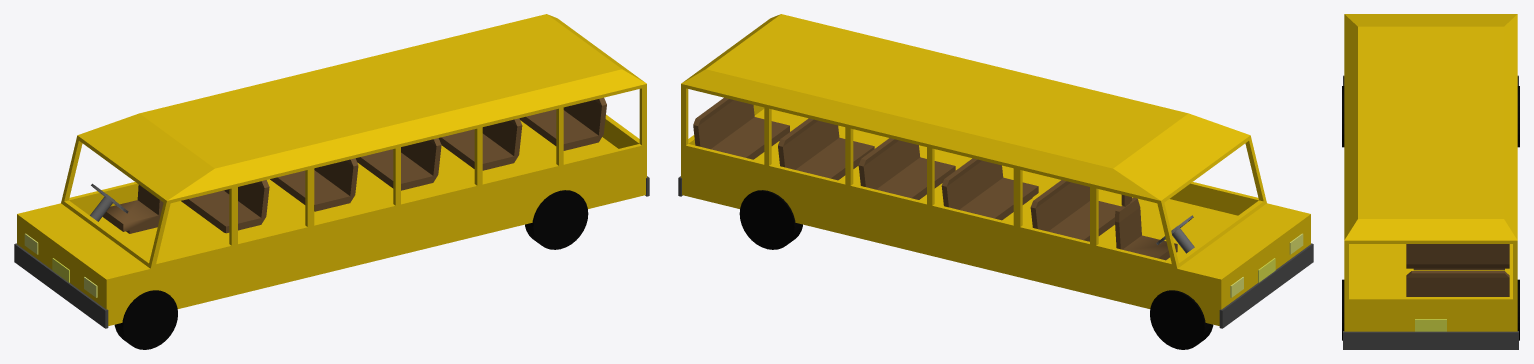
The model's file is bus.fbx.
3 views of the same model, side by side, from view 1: azimuth 30°, elevation 25°; view 2: azimuth 150°, elevation 25°; view 3: azimuth 270°, elevation 25° (orthographic). The views are drawn at different scales.
Visible parts, largest first — view 1: Bus, Seats, wheels.001, Bummpers; view 2: Bus, Seats, wheels.001, Bummpers; view 3: Bus, Seats, Bummpers, wheels.001, plate.001.
Part boxes in pixels (x1,y1,x2,y2): Bus: (17, 14, 646, 325); Seats: (102, 97, 606, 233); wheels.001: (114, 190, 588, 349); Bummpers: (14, 176, 649, 328); Bus: (681, 14, 1310, 325); Seats: (693, 97, 1177, 260); wheels.001: (739, 190, 1213, 349); Bummpers: (678, 176, 1313, 328); Bus: (1344, 14, 1517, 331); Seats: (1406, 244, 1509, 296); Bummpers: (1343, 75, 1518, 349); wheels.001: (1342, 86, 1519, 340); plate.001: (1415, 319, 1446, 331).
Bounding box in the file's own units: 327 × 90.07 × 95.56.
